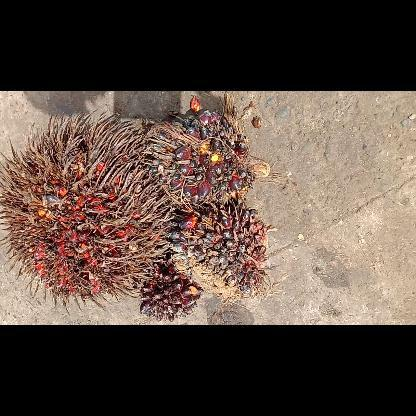TBS abnormal: (150, 107, 272, 215), (166, 200, 268, 304), (138, 257, 202, 321)
Terlalu masak: (0, 108, 178, 316)
